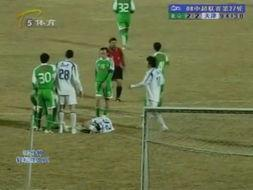Fall-Detected: (74, 109, 117, 134)
